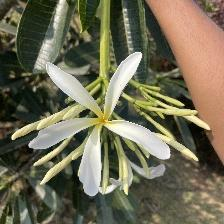champaka: (28, 49, 182, 200)
